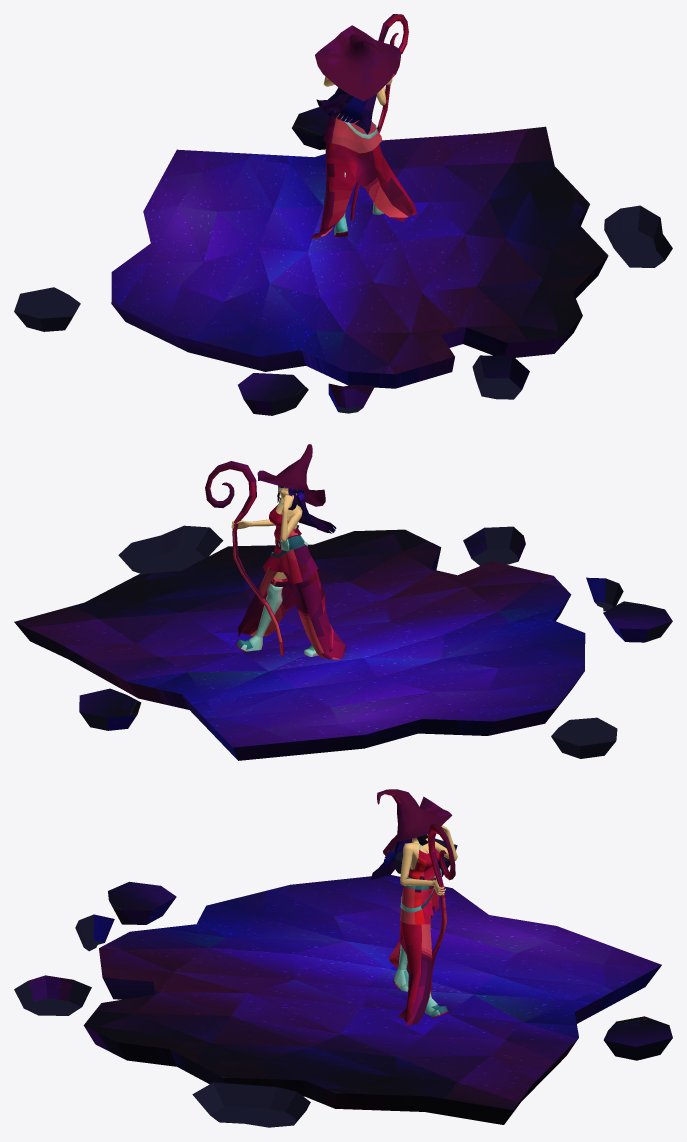
The model's file is galaxy_island_moving_wizard.obj.
3 renders of one model, top to bottom at view 1: azimuth 30°, elevation 25°; view 2: azimuth 150°, elevation 25°; view 3: azimuth 270°, elevation 25°, orthographic. The views are drawn at different scales.
Visible parts, largest first — view 1: Plane.014, uploads_files_2205694_WitchStudentObj.001; view 2: Plane.014, uploads_files_2205694_WitchStudentObj.001; view 3: Plane.014, uploads_files_2205694_WitchStudentObj.001.
Part boxes in pixels (bbox=[...]): Plane.014: bbox=[14, 107, 672, 415]; uploads_files_2205694_WitchStudentObj.001: bbox=[310, 14, 417, 238]; Plane.014: bbox=[14, 525, 672, 760]; uploads_files_2205694_WitchStudentObj.001: bbox=[205, 444, 346, 659]; Plane.014: bbox=[14, 838, 672, 1127]; uploads_files_2205694_WitchStudentObj.001: bbox=[371, 789, 457, 1025].
Size of the model in its own units: 9.73 by 3.71 by 9.39.
